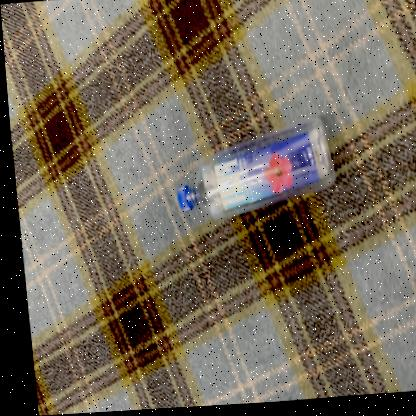Plastic: (173, 122, 331, 221)
